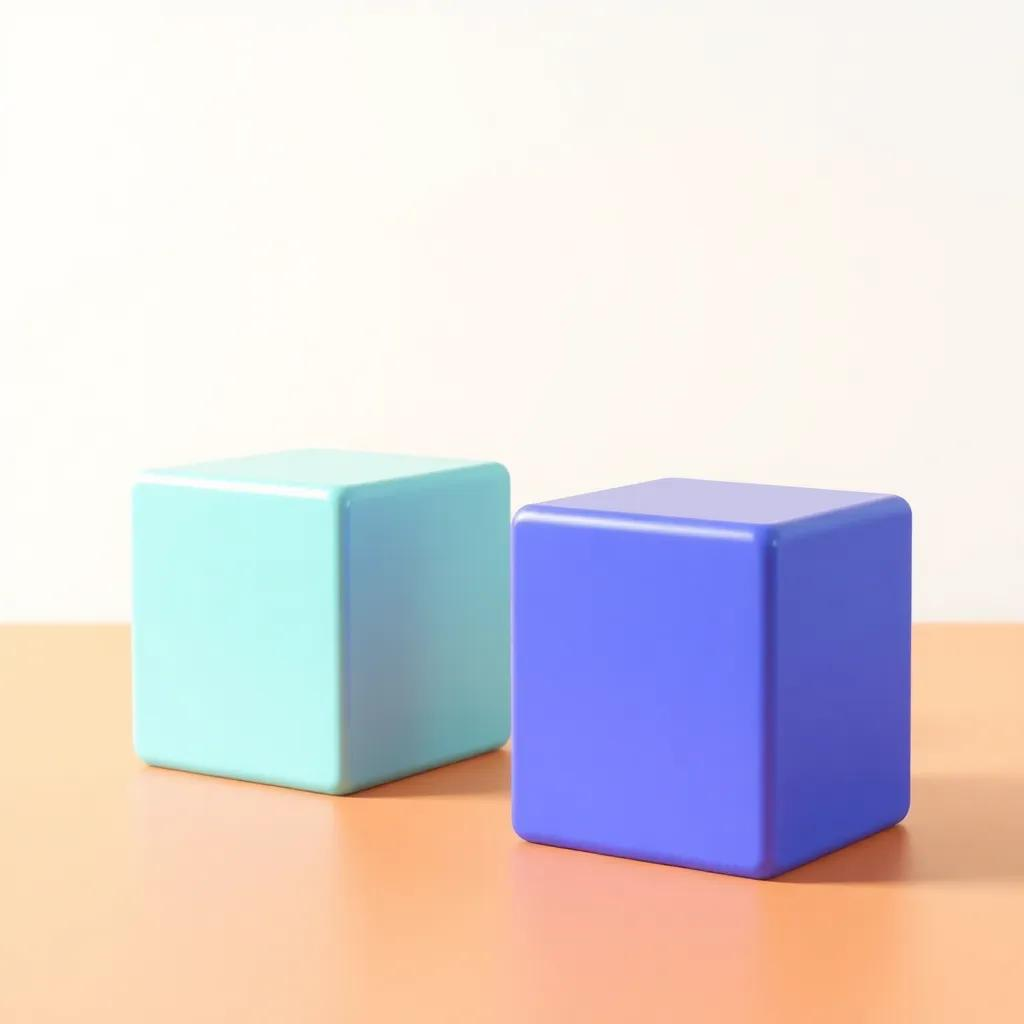cube: (509, 475, 913, 880), (129, 445, 511, 795)
